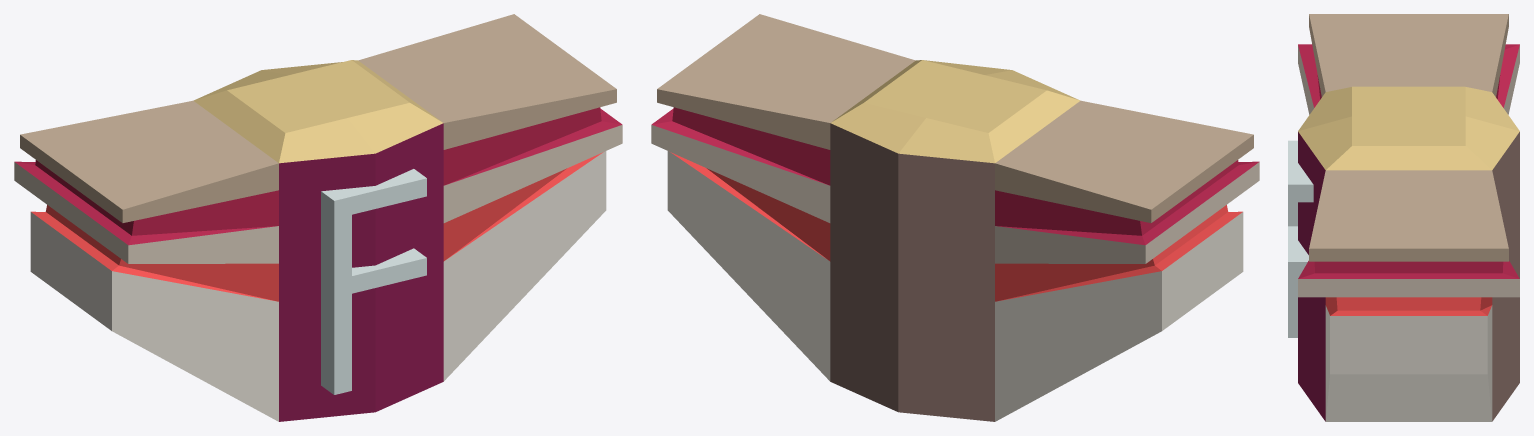
The model's file is PowerUpContentF.fbx.
The picture shows the model from 3 angles, left to right: view 1: azimuth 30°, elevation 25°; view 2: azimuth 150°, elevation 25°; view 3: azimuth 270°, elevation 25°; orthographic projection. The views are drawn at different scales.
Parts seen in each view (by area): view 1: PowerUpContentF; view 2: PowerUpContentF; view 3: PowerUpContentF.
Part boxes in pixels (<box>): PowerUpContentF: <box>14,14,622,421</box>; PowerUpContentF: <box>651,14,1259,421</box>; PowerUpContentF: <box>1288,14,1519,421</box>.
Size of the model in its own units: 100 by 52.96 by 41.79.
